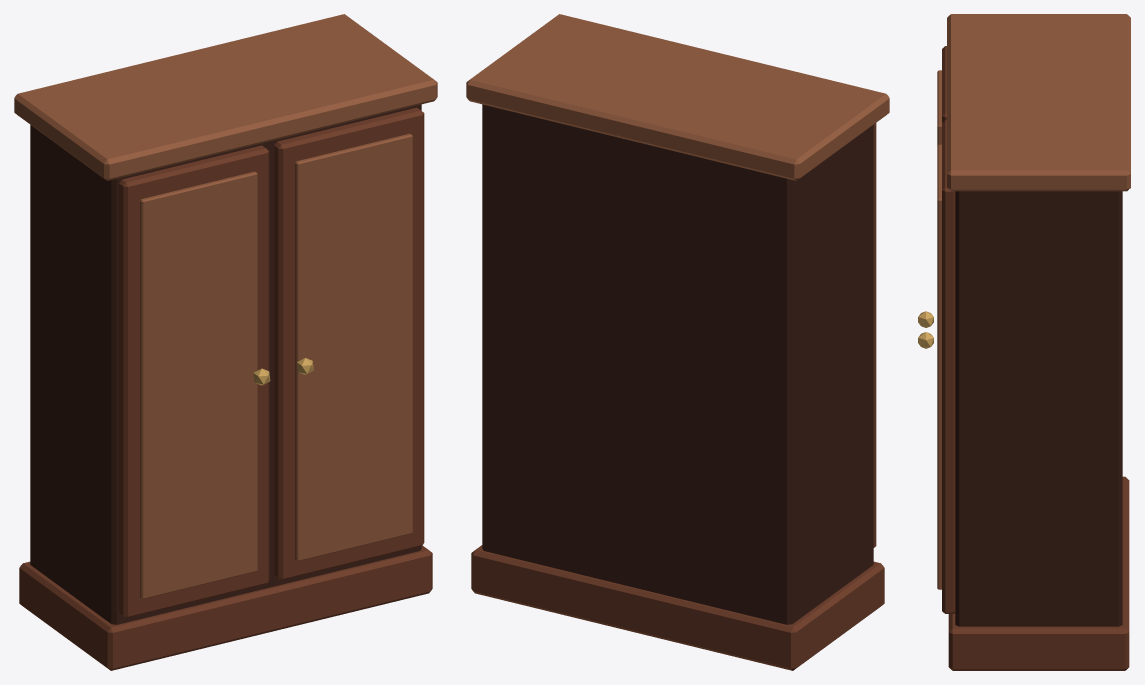
Rendered from maintenance_cabinet.glb.
3 renders of one model, left to right at view 1: azimuth 30°, elevation 25°; view 2: azimuth 150°, elevation 25°; view 3: azimuth 270°, elevation 25°, orthographic. The views are drawn at different scales.
Visible parts, largest first — view 1: Inset_00, Inset_01, Body, Top, Front_00, Front_01, Plinth; view 2: Body, Top, Plinth, Front_00; view 3: Body, Top, Plinth, Front_01, Inset_01, Inset_00, Front_00.
Boxes of the visible parts, x1=… form: Inset_00: x1=140, y1=171, x2=257, y2=599; Inset_01: x1=295, y1=133, x2=412, y2=561; Body: x1=30, y1=104, x2=421, y2=624; Top: x1=14, y1=14, x2=437, y2=180; Front_00: x1=119, y1=145, x2=269, y2=618; Front_01: x1=274, y1=107, x2=424, y2=580; Plinth: x1=19, y1=545, x2=432, y2=670; Body: x1=482, y1=104, x2=873, y2=624; Top: x1=466, y1=14, x2=889, y2=180; Plinth: x1=471, y1=545, x2=884, y2=670; Front_00: x1=873, y1=123, x2=876, y2=547; Body: x1=955, y1=191, x2=1122, y2=626; Top: x1=947, y1=14, x2=1130, y2=191; Plinth: x1=948, y1=476, x2=1129, y2=670; Front_01: x1=942, y1=120, x2=955, y2=613; Inset_01: x1=937, y1=144, x2=941, y2=589; Inset_00: x1=937, y1=70, x2=941, y2=145; Front_00: x1=942, y1=46, x2=946, y2=122.
Bounding box in the file's own units: 1.13 × 1.66 × 0.6368.
